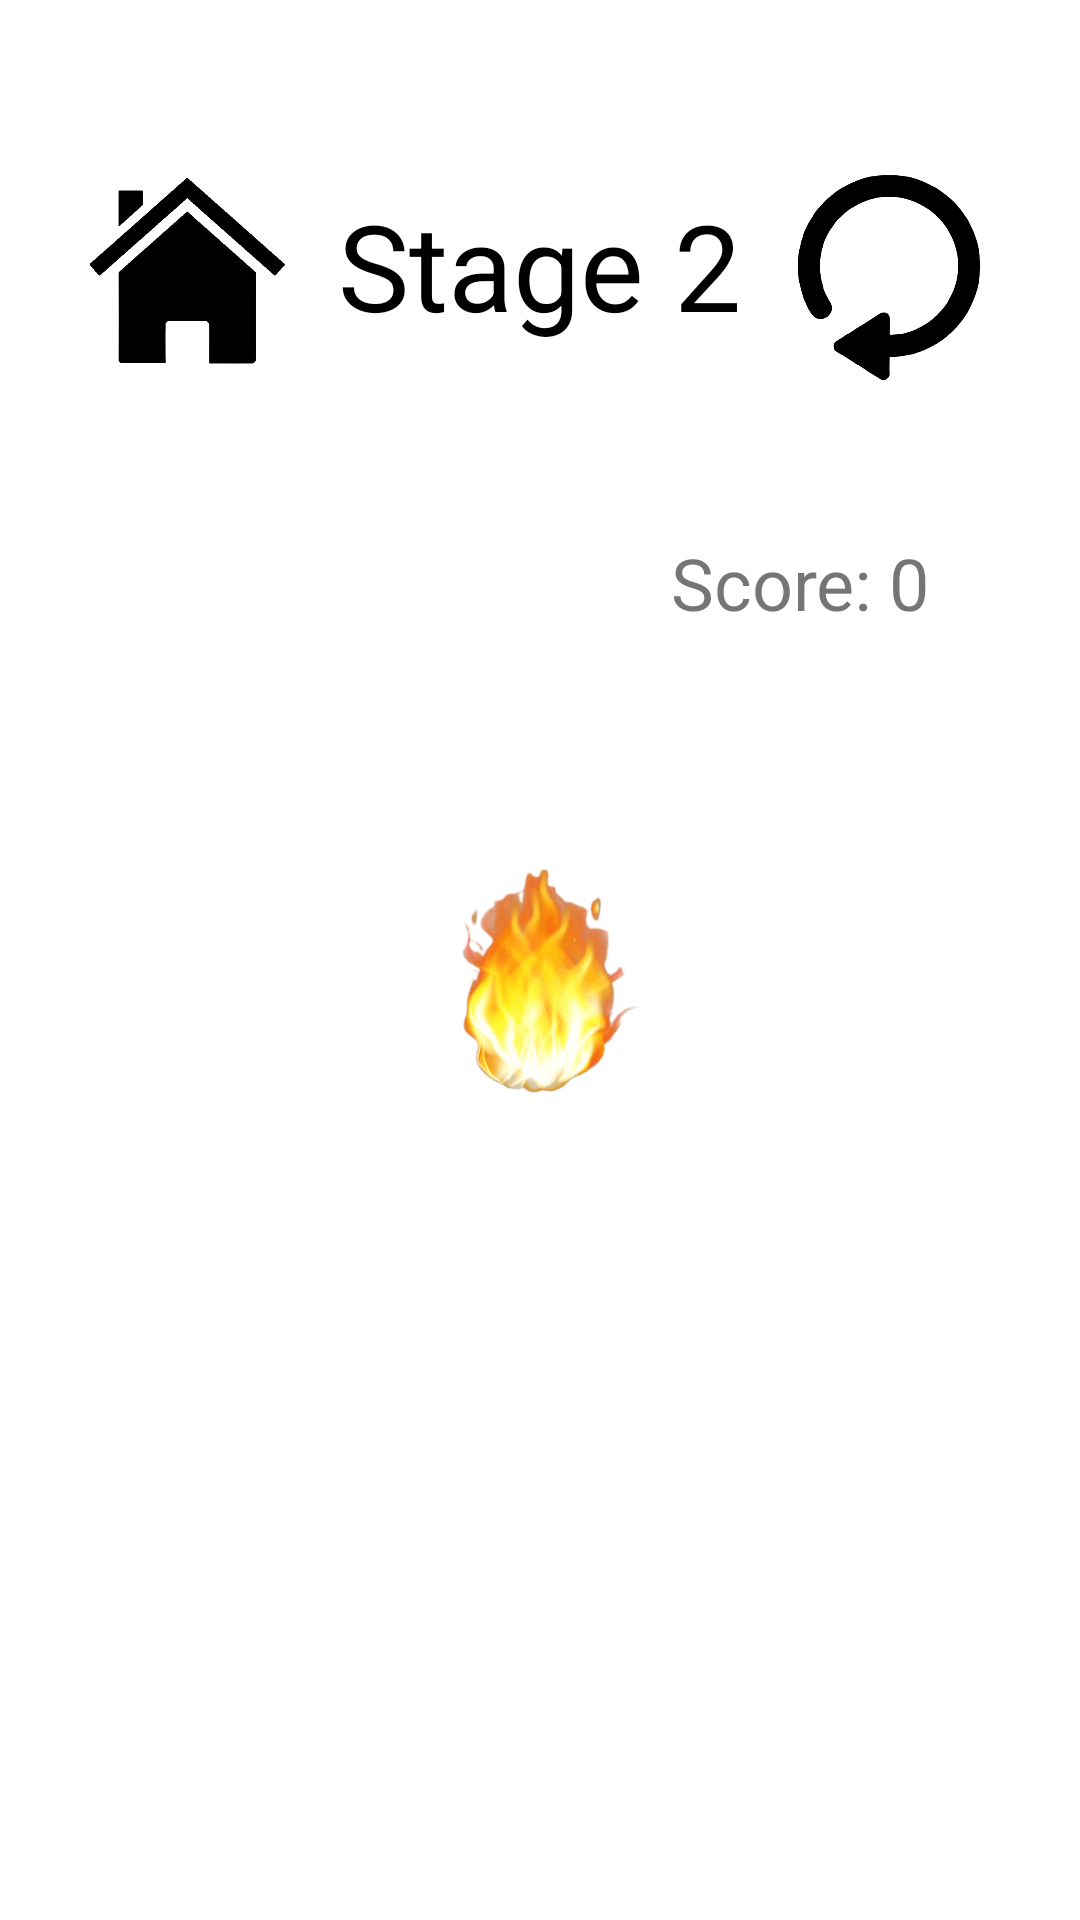

Named icons in this screenshot (1080w x 1920h) and their bounding boxes, (x1, y1, x2, y2):
fire: (463, 869, 636, 1093)
home: (89, 178, 285, 364)
replay: (798, 175, 980, 380)
